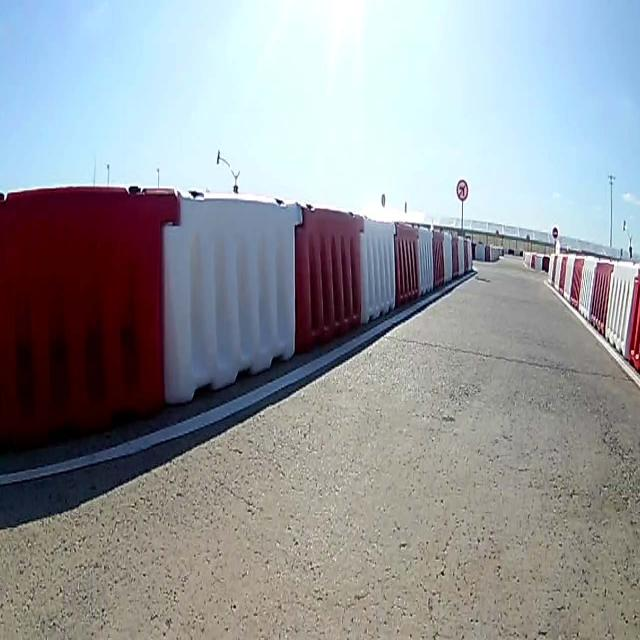soladonulmez: (455, 175, 469, 201)
